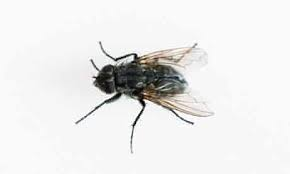insect: (74, 39, 213, 151)
